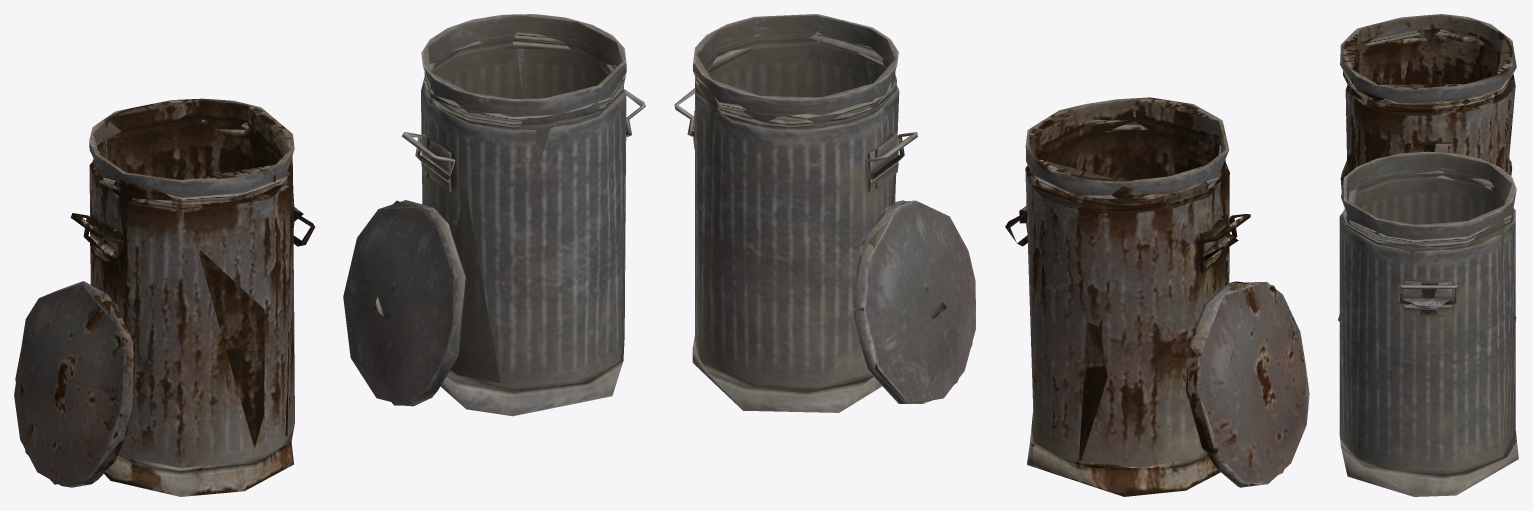
Rendered from metal_trash_can.glb.
3 renders of one model, left to right at view 1: azimuth 30°, elevation 25°; view 2: azimuth 150°, elevation 25°; view 3: azimuth 270°, elevation 25°, orthographic. The views are drawn at different scales.
Visible parts, largest first — view 1: metal_trash_can, metal_trash_can_rust, metal_trash_can_rust_lid, metal_trash_can_lid, metal_trash_can_handle_left; view 2: metal_trash_can, metal_trash_can_rust, metal_trash_can_lid, metal_trash_can_rust_lid, metal_trash_can_handle_left; view 3: metal_trash_can, metal_trash_can_rust, metal_trash_can_handle_right.
Part boxes in pixels (bbox=[...]): metal_trash_can: bbox=[421, 14, 626, 416]; metal_trash_can_rust: bbox=[89, 98, 303, 496]; metal_trash_can_rust_lid: bbox=[14, 281, 134, 487]; metal_trash_can_lid: bbox=[343, 200, 466, 406]; metal_trash_can_handle_left: bbox=[401, 132, 455, 180]; metal_trash_can: bbox=[692, 14, 899, 412]; metal_trash_can_rust: bbox=[1019, 97, 1238, 496]; metal_trash_can_lid: bbox=[852, 200, 975, 403]; metal_trash_can_rust_lid: bbox=[1185, 281, 1309, 487]; metal_trash_can_handle_left: bbox=[864, 132, 917, 180]; metal_trash_can: bbox=[1339, 151, 1518, 496]; metal_trash_can_rust: bbox=[1338, 14, 1516, 321]; metal_trash_can_handle_right: bbox=[1398, 284, 1458, 305].
Size of the model in its own units: 1.77 by 0.9062 by 0.55.
3 materials, 3 textured.
